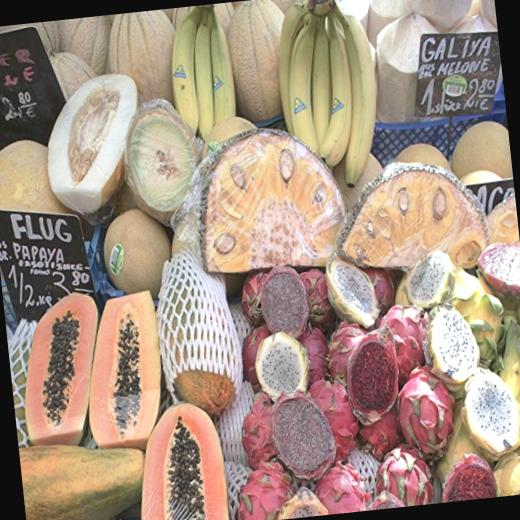Banana: (269, 0, 388, 197), (166, 4, 215, 134), (180, 4, 223, 144), (202, 6, 238, 119)
